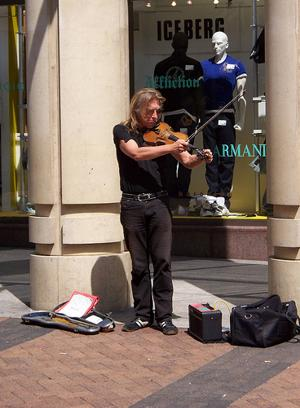person: (113, 90, 214, 338)
